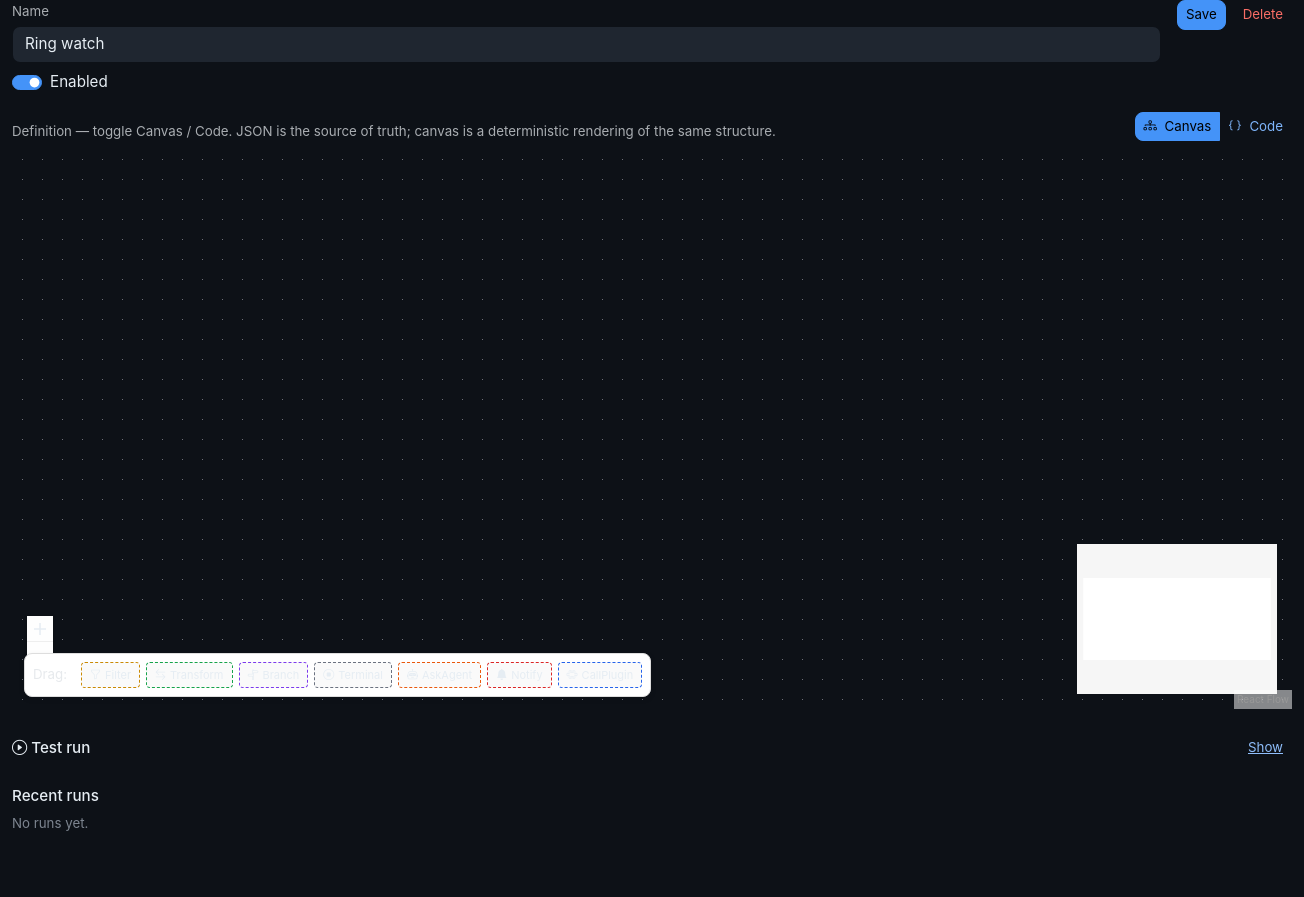
Scenario: AutomationDetailPage (M4c view toggle + test-run) › test-run drawer fetches recent events and runs against the picked event
Note: Open it.
Click the button with test id "test-run-toggle" at (1266, 748), box [1239,734,1292,763]
(page scrolled)
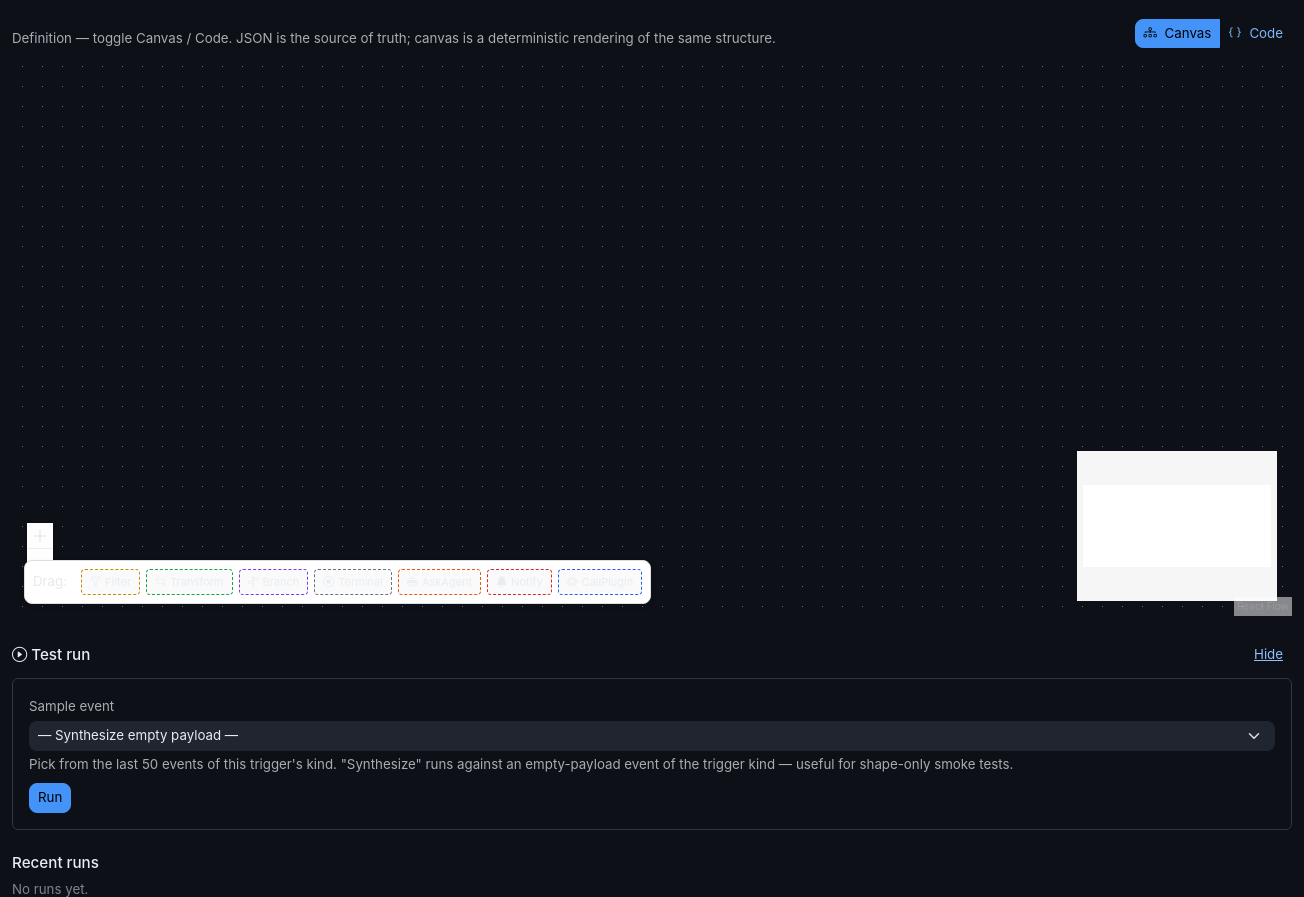
Expected: the dropdown with test id "test-run-event-picker" is shown, [29,721,1275,751]
Click the button with test id "test-run-go" at (50, 798), box [29,783,71,813]
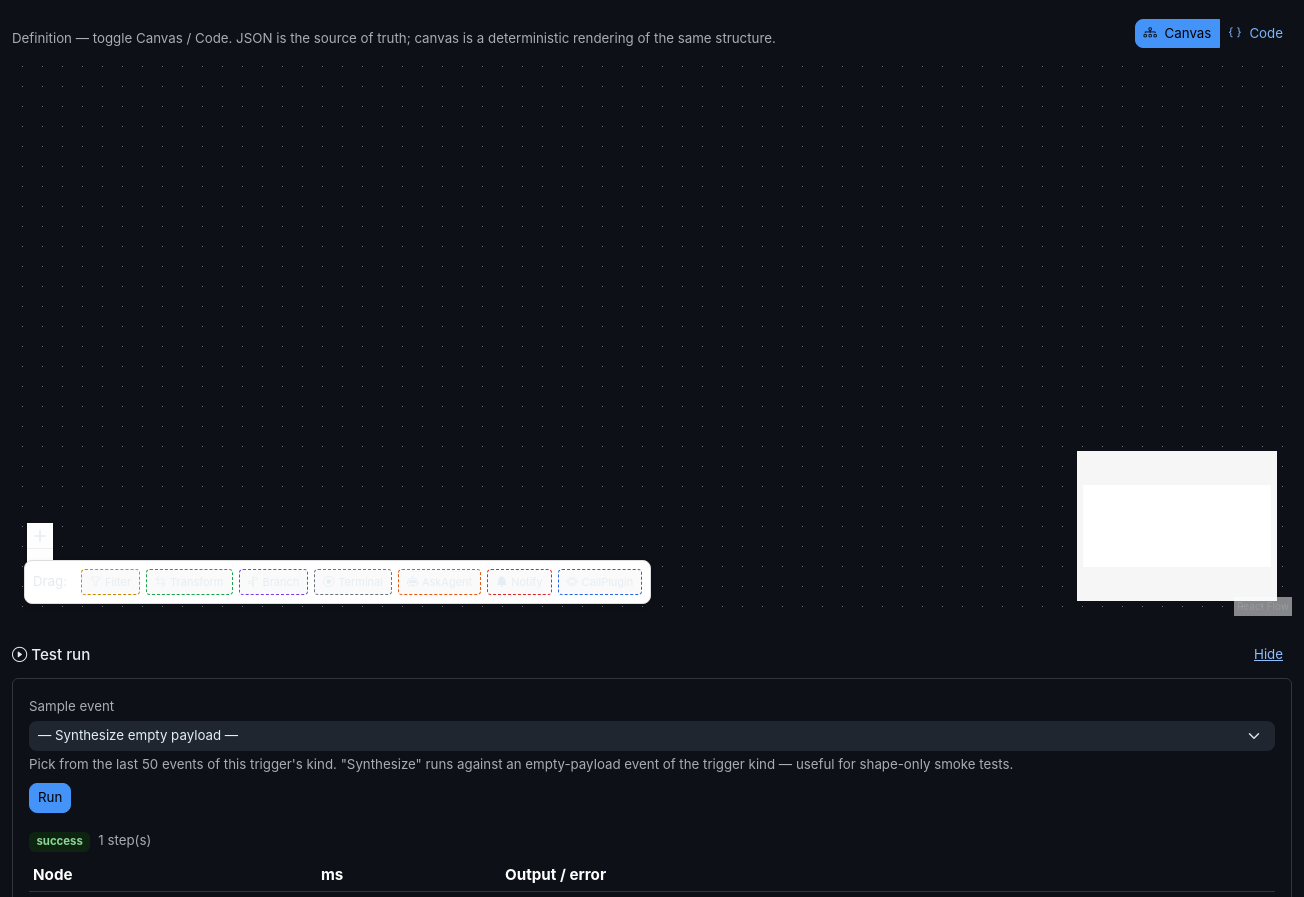
Expected: the text "success" is shown, [29,832,90,852]
